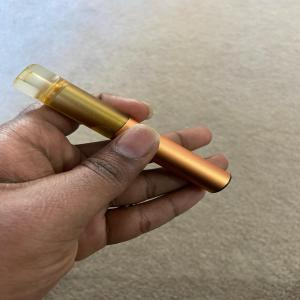Golden-E-Ciggirate: (6, 59, 241, 200)
